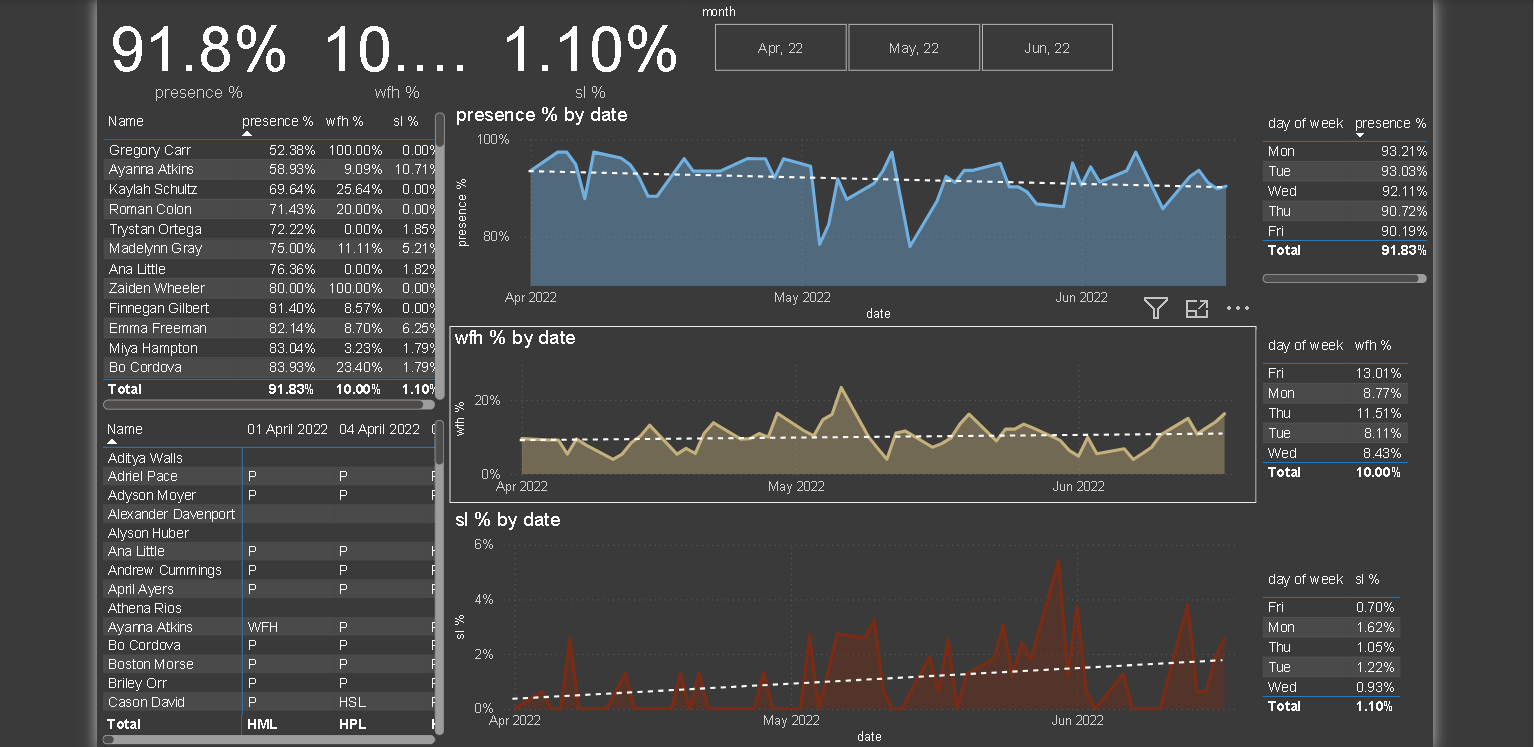

The page's visual inventory and layout, read from the dashboard file:
{"tool":"powerbi","page":{"name":"Page 1","canvas":[1280,720],"ordinal":0},"visuals":[{"type":"card","fields":{"Values":["final data.presence %","select"]},"box":[0,0,195,103.3],"z":0},{"type":"slicer","fields":{"Values":["final data.month"]},"box":[566.3,0,431.5,75.7],"z":1000},{"type":"card","fields":{"Values":["final data.wfh %"]},"box":[195,0,185,103.3],"z":2000},{"type":"card","fields":{"Values":["final data.sl %"]},"box":[380,0,186.7,103.3],"z":3000},{"type":"tableEx","fields":{"Values":["final data.Name","final data.presence %","final data.wfh %","final data.sl %"]},"box":[0,103.9,338.3,294.8],"z":4000},{"type":"pivotTable","fields":{"Rows":["final data.Name"],"Values":["Min(final data.Value)"],"Columns":["final data.date"]},"box":[0,398.2,337.7,321],"z":5000},{"type":"areaChart","fields":{"Category":["final data.date"],"Y":["final data.presence %"]},"box":[339.2,99.9,773.8,213.5],"z":6000},{"type":"areaChart","fields":{"Category":["final data.date"],"Y":["final data.sl %"]},"box":[337.7,487.6,773.8,231.7],"z":6002},{"type":"areaChart","fields":{"Category":["final data.date"],"Y":["final data.wfh %"]},"box":[337.7,313.4,773.8,169.6],"z":6003},{"type":"tableEx","fields":{"Values":["final data.day of week","final data.presence %"]},"box":[1111.4,104.5,168.1,172.6],"z":6004},{"type":"tableEx","fields":{"Values":["final data.day of week","final data.sl %"]},"box":[1111.4,542.1,168.1,177.2],"z":6005},{"type":"tableEx","fields":{"Values":["final data.day of week","final data.wfh %"]},"box":[1111.4,318,168.1,165],"z":6006}]}

Visuals, with their boxes on the page's 1280x720 design canvas (x1, y1, x2, y2). These are canvas units, not pixel positions in the 1534x747 screenshot, which may show the page scaled, cropped or inside an application window:
card - final data.presence % x select: [left=0, top=0, right=195, bottom=103]
slicer - final data.month: [left=566, top=0, right=998, bottom=76]
card - final data.wfh %: [left=195, top=0, right=380, bottom=103]
card - final data.sl %: [left=380, top=0, right=567, bottom=103]
tableEx - final data.Name x final data.presence %: [left=0, top=104, right=338, bottom=399]
pivotTable - final data.Name x Min(final data.Value): [left=0, top=398, right=338, bottom=719]
areaChart - final data.date x final data.presence %: [left=339, top=100, right=1113, bottom=313]
areaChart - final data.date x final data.sl %: [left=338, top=488, right=1112, bottom=719]
areaChart - final data.date x final data.wfh %: [left=338, top=313, right=1112, bottom=483]
tableEx - final data.day of week x final data.presence %: [left=1111, top=104, right=1280, bottom=277]
tableEx - final data.day of week x final data.sl %: [left=1111, top=542, right=1280, bottom=719]
tableEx - final data.day of week x final data.wfh %: [left=1111, top=318, right=1280, bottom=483]
